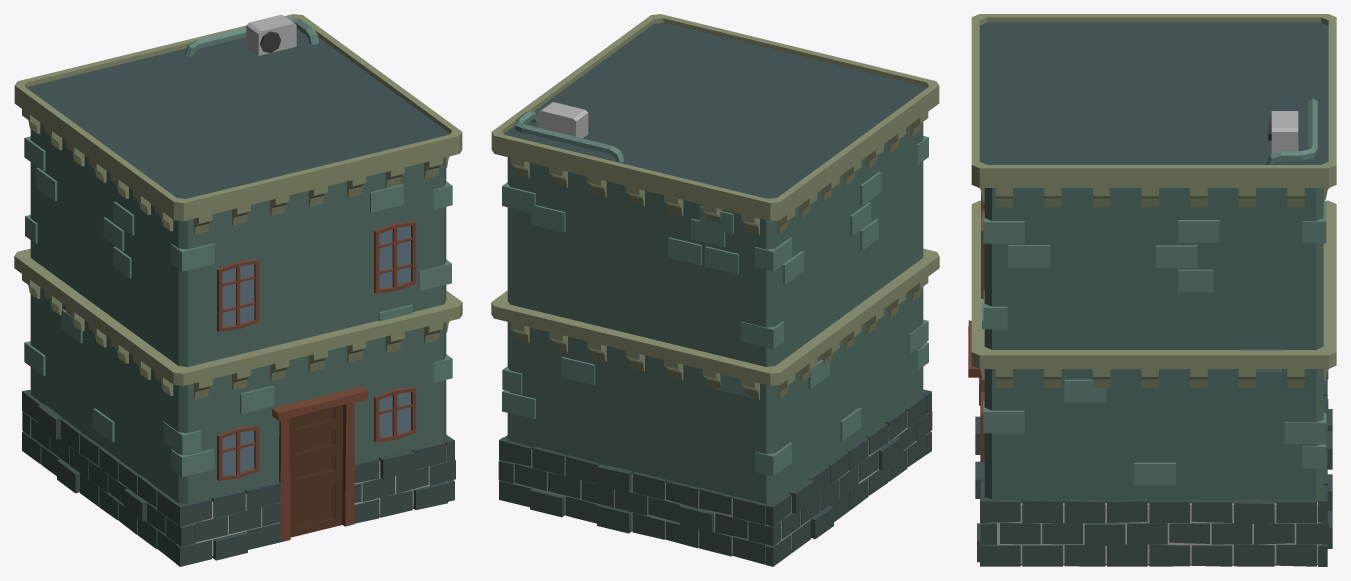
The model's file is 2Story_2_Mat.gltf.
3 renders of one model, left to right at view 1: azimuth 30°, elevation 25°; view 2: azimuth 150°, elevation 25°; view 3: azimuth 270°, elevation 25°, orthographic. The views are drawn at different scales.
Visible parts, largest first — view 1: o 2Story_2_Mat_Cube.034; view 2: o 2Story_2_Mat_Cube.034; view 3: o 2Story_2_Mat_Cube.034.
Part boxes in pixels (box(x1,y1,x2,y2)): o 2Story_2_Mat_Cube.034: box(14, 14, 462, 566); o 2Story_2_Mat_Cube.034: box(491, 14, 939, 566); o 2Story_2_Mat_Cube.034: box(968, 14, 1336, 566).
Size of the model in its own units: 2.16 by 2.76 by 2.17.
